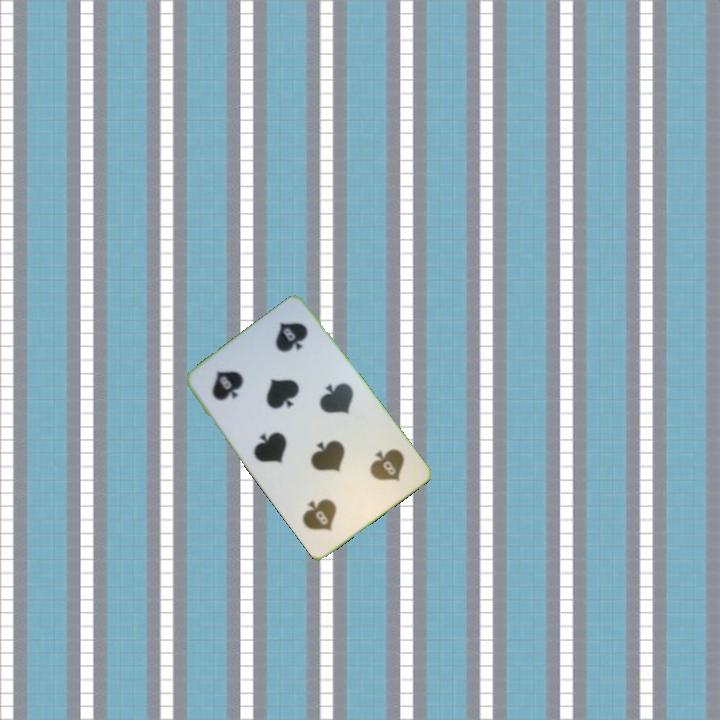s_8.png: (194, 341, 280, 425), (334, 428, 420, 512)
